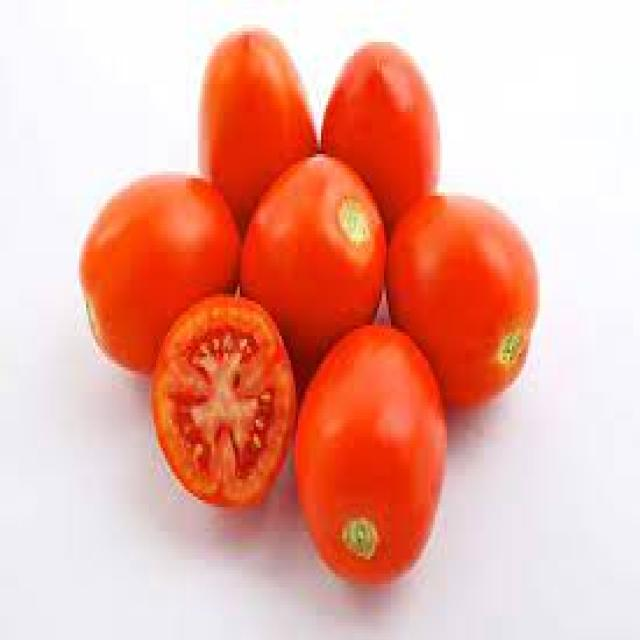Fresh_tomato: (150, 272, 296, 516), (300, 328, 431, 584), (388, 206, 536, 400), (84, 175, 240, 327), (181, 28, 312, 188), (248, 170, 382, 323), (324, 28, 440, 195)
